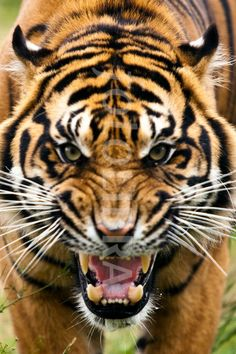Tigrew: (12, 23, 212, 315)
